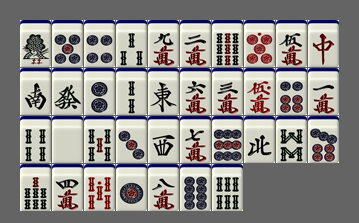0m: (244, 68, 275, 115)
0p: (244, 20, 275, 67)
0s: (84, 164, 115, 211)
1m: (308, 68, 339, 115)
1p: (116, 164, 147, 211)
1s: (20, 20, 51, 67)
1z: (148, 68, 179, 115)
2m: (180, 20, 211, 67)
2p: (84, 68, 115, 115)
2s: (116, 68, 147, 115)
2z: (20, 68, 51, 115)
3m: (212, 68, 243, 115)
3p: (116, 116, 147, 163)
3s: (116, 20, 147, 67)
3z: (148, 116, 179, 163)
4m: (52, 164, 83, 211)
4p: (84, 20, 115, 67)
4s: (20, 116, 51, 163)
4z: (244, 116, 275, 163)
5m: (276, 20, 307, 67)
5p: (52, 20, 83, 67)
5s: (84, 116, 115, 163)
5z: (52, 116, 83, 163)
6m: (180, 68, 211, 115)
6p: (276, 68, 307, 115)
6s: (212, 164, 243, 211)
6z: (52, 68, 83, 115)
7m: (180, 116, 211, 163)
7p: (308, 116, 339, 163)
7s: (20, 164, 51, 211)
7z: (308, 20, 339, 67)
8m: (148, 164, 179, 211)
8p: (180, 164, 211, 211)
8s: (276, 116, 307, 163)
9m: (148, 20, 179, 67)
9p: (212, 116, 243, 163)
9s: (212, 20, 243, 67)
